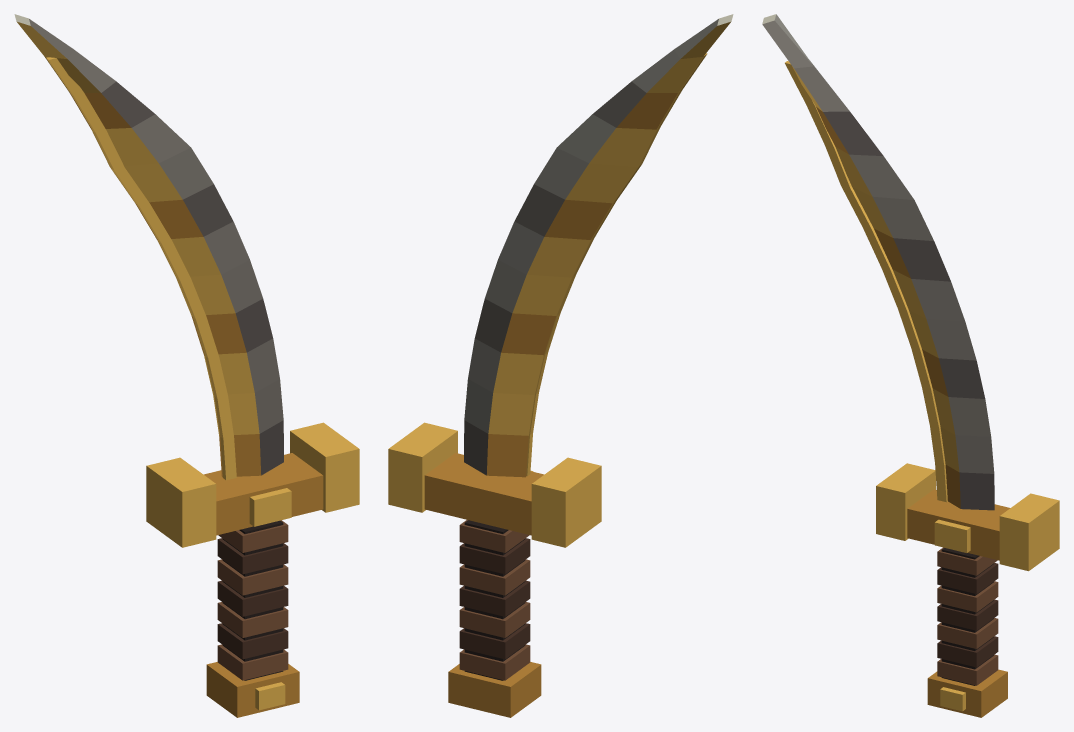
Rendered from ChiefScimitar.fbx.
3 renders of one model, left to right at view 1: azimuth 30°, elevation 25°; view 2: azimuth 150°, elevation 25°; view 3: azimuth 330°, elevation 25°, orthographic. The views are drawn at different scales.
Visible parts, largest first — view 1: ChiefScimitar_Mesh; view 2: ChiefScimitar_Mesh; view 3: ChiefScimitar_Mesh.
Boxes of the visible parts, x1=… form: ChiefScimitar_Mesh: x1=14, y1=14, x2=359, y2=717; ChiefScimitar_Mesh: x1=388, y1=14, x2=733, y2=717; ChiefScimitar_Mesh: x1=762, y1=14, x2=1059, y2=717.
Size of the model in its own units: 0.5488 by 1.19 by 0.1105.
